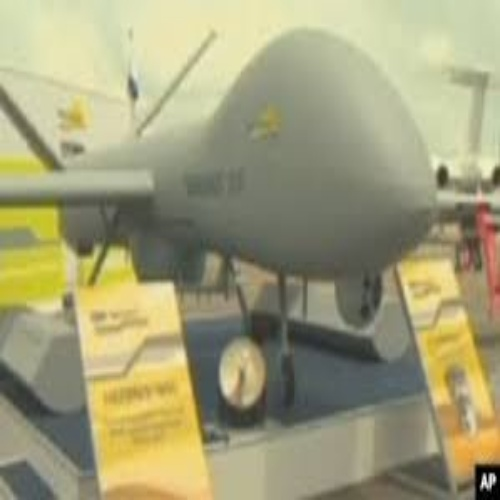uav369: (1, 24, 497, 352)
